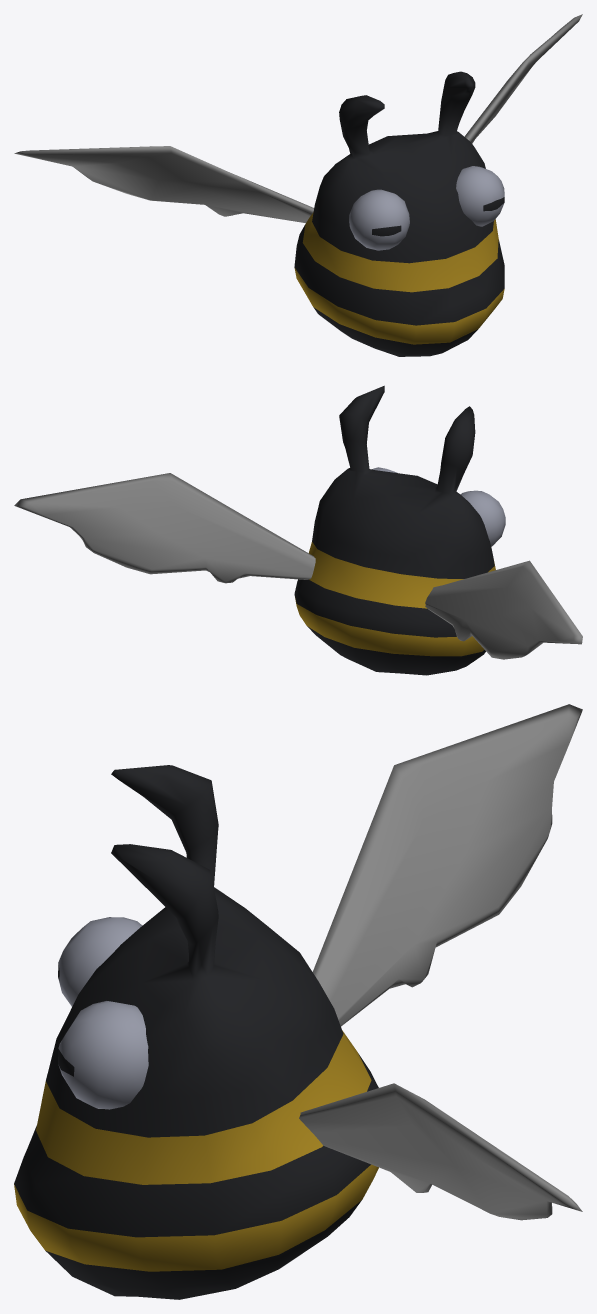
File: cc0-armabee-lod1.glb
The picture shows the model from 3 angles, top to bottom: view 1: azimuth 30°, elevation 25°; view 2: azimuth 150°, elevation 25°; view 3: azimuth 270°, elevation 25°; orthographic projection. The views are drawn at different scales.
Parts seen in each view (by area): view 1: part_12; view 2: part_12; view 3: part_12.
Part boxes in pixels (bbox=[...]): part_12: bbox=[14, 14, 582, 356]; part_12: bbox=[14, 385, 582, 675]; part_12: bbox=[14, 704, 582, 1299].
Size of the model in its own units: 4.3 by 1.89 by 2.06.
1 material, 1 textured.
